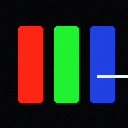3 line_h: (97, 75, 127, 77)
